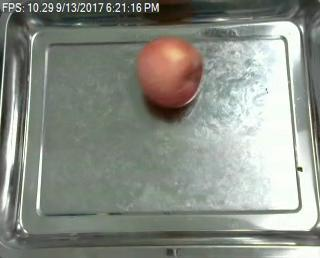apple: (135, 37, 205, 109)
